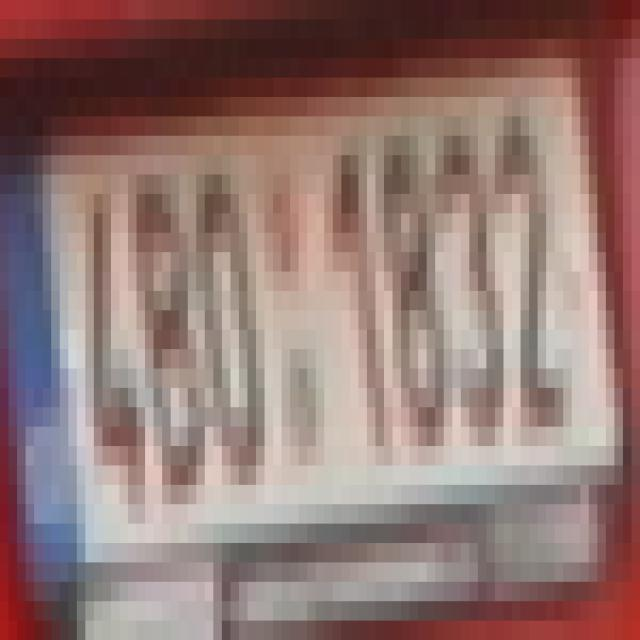0: (188, 155, 264, 504)
1: (316, 155, 392, 427)
2: (486, 78, 572, 426)
4: (76, 194, 154, 504)
B: (136, 174, 205, 524)
